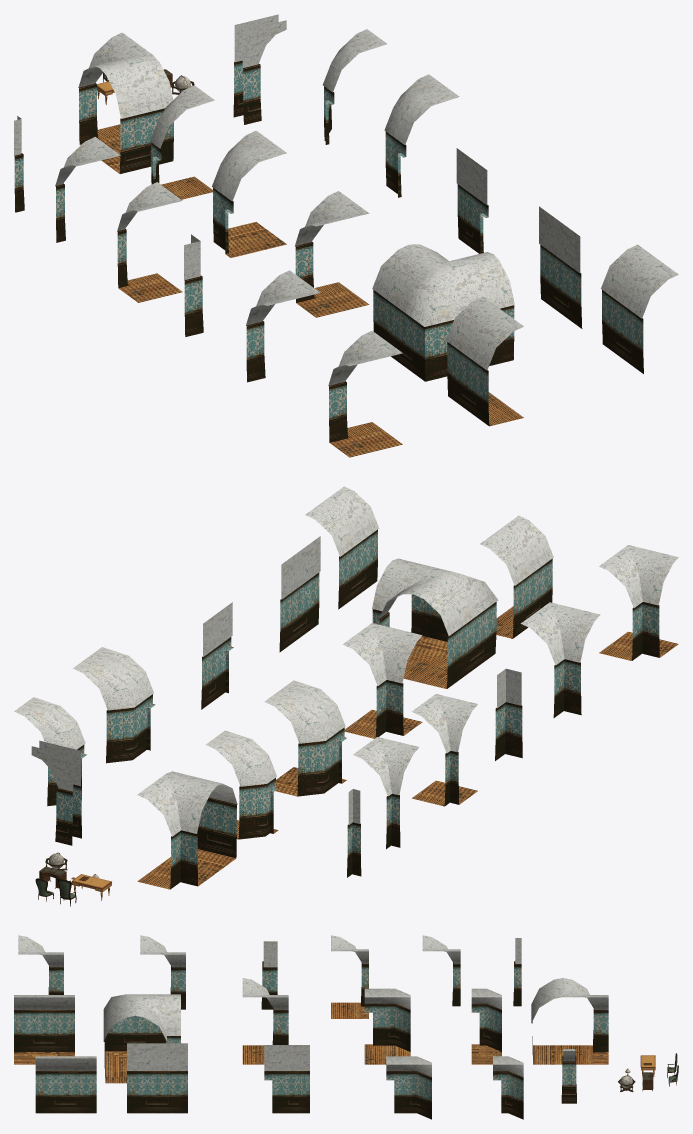
File: VictorianOffice.gltf
3 views of the same model, one above another, from view 1: azimuth 30°, elevation 25°; view 2: azimuth 150°, elevation 25°; view 3: azimuth 270°, elevation 25° (orthographic). The views are drawn at different scales.
Parts seen in each view (by area): view 1: hotel_hallway_corner_002, hotel_hallway_tee_002, hotel_hallway_002, hotel_hallway_wall_002, hotel_hallway_doors_004, hotel_hallway_post_002, hotel_hallway_wall_003, hotel_hallway_cross_002, hotel_hallway_arch_002, hotel_hallway_door_004, hotel_hallway_post_007, hotel_hallway_post_003 (+6 smaller); view 2: hotel_hallway_corner_002, hotel_hallway_tee_002, hotel_hallway_doors_004, hotel_hallway_door_004, hotel_hallway_post_002, hotel_hallway_cross_002, hotel_hallway_002, hotel_hallway_wall_002, hotel_hallway_post_003, hotel_hallway_doors_003, hotel_hallway_wall_003, hotel_hallway_post_007 (+6 smaller); view 3: hotel_hallway_corner_002, hotel_hallway_wall_003, hotel_hallway_002, hotel_hallway_wall_002, hotel_hallway_tee_002, hotel_hallway_doors_004, hotel_hallway_door_005, hotel_hallway_door_004, hotel_hallway_doors_003, hotel_hallway_cross_002, hotel_hallway_door_003, hotel_hallway_post_007 (+6 smaller).
Part boxes in pixels (x1,y1,x2,y2): hotel_hallway_corner_002: [372, 244, 514, 381]; hotel_hallway_tee_002: [78, 32, 173, 173]; hotel_hallway_002: [446, 296, 523, 426]; hotel_hallway_wall_002: [601, 244, 678, 373]; hotel_hallway_doors_004: [212, 130, 286, 257]; hotel_hallway_post_002: [328, 330, 402, 457]; hotel_hallway_wall_003: [539, 206, 582, 328]; hotel_hallway_cross_002: [295, 191, 369, 317]; hotel_hallway_arch_002: [233, 14, 286, 124]; hotel_hallway_door_004: [384, 74, 459, 197]; hotel_hallway_post_007: [117, 182, 182, 302]; hotel_hallway_post_003: [246, 270, 320, 382]; hotel_hallway_corner_002: [372, 558, 498, 688]; hotel_hallway_tee_002: [137, 771, 237, 889]; hotel_hallway_doors_004: [264, 680, 346, 796]; hotel_hallway_door_004: [73, 647, 155, 763]; hotel_hallway_post_002: [599, 545, 678, 660]; hotel_hallway_cross_002: [343, 623, 422, 738]; hotel_hallway_002: [480, 515, 553, 638]; hotel_hallway_wall_002: [305, 486, 379, 609]; hotel_hallway_post_003: [520, 602, 600, 717]; hotel_hallway_doors_003: [206, 730, 278, 839]; hotel_hallway_wall_003: [279, 536, 320, 652]; hotel_hallway_post_007: [412, 694, 477, 806]; hotel_hallway_corner_002: [103, 994, 180, 1083]; hotel_hallway_wall_003: [127, 1043, 187, 1113]; hotel_hallway_002: [14, 995, 74, 1064]; hotel_hallway_wall_002: [35, 1056, 96, 1113]; hotel_hallway_tee_002: [531, 978, 608, 1064]; hotel_hallway_doors_004: [364, 988, 410, 1064]; hotel_hallway_door_005: [264, 1045, 309, 1113]; hotel_hallway_door_004: [386, 1056, 431, 1119]; hotel_hallway_doors_003: [471, 988, 501, 1064]; hotel_hallway_cross_002: [242, 978, 288, 1064]; hotel_hallway_door_003: [493, 1056, 523, 1119]; hotel_hallway_post_007: [331, 935, 368, 1018].
Size of the model in its own units: 20.1 by 5.02 by 43.6.
14 materials, 14 textured.
